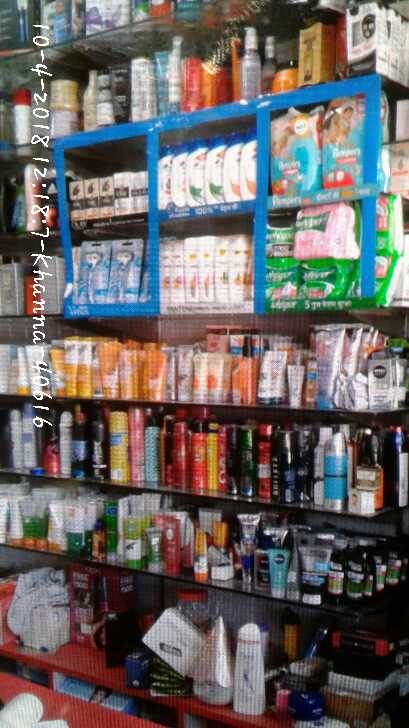venus: (108, 238, 140, 305), (80, 242, 107, 305)
